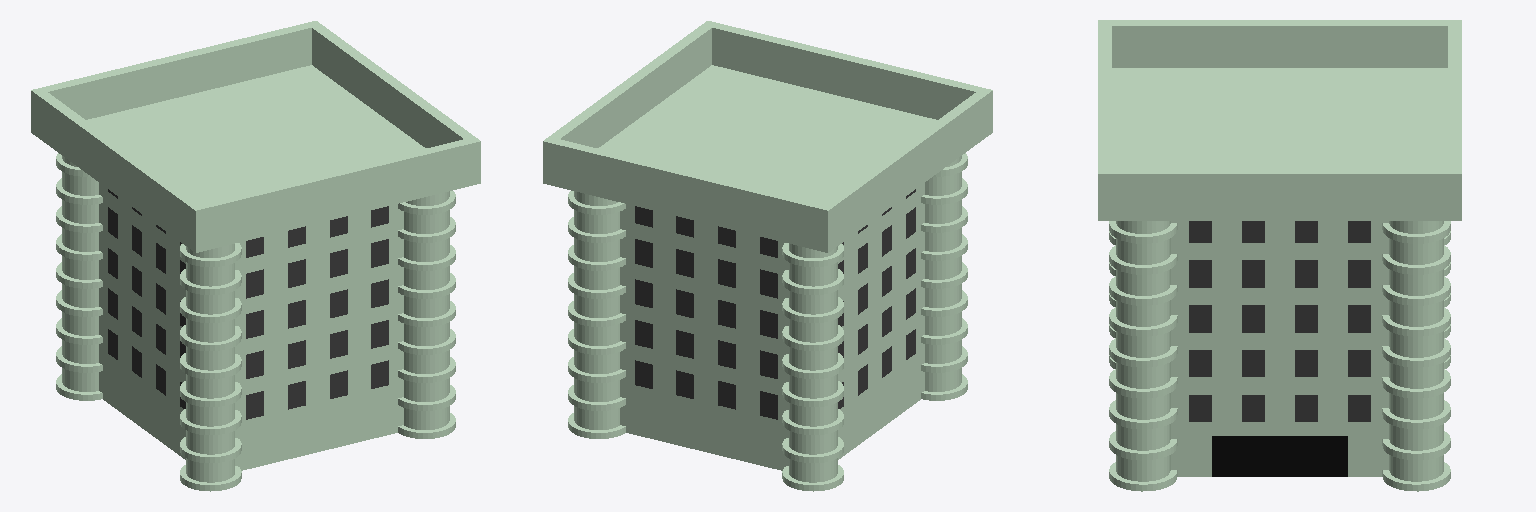
The robot description file, URDF, robot "building_3":
<?xml version="1.0"?> 

<!-- Copyright 2023 [author] -->

<!-- Licensed under the Apache License, Version 2.0 (the "License"); -->
<!-- you may not use this file except in compliance with the License. -->
<!-- You may obtain a copy of the License at -->

<!--     http://www.apache.org/licenses/LICENSE-2.0 -->

<!-- Unless required by applicable law or agreed to in writing, software -->
<!-- distributed under the License is distributed on an "AS IS" BASIS, -->
<!-- WITHOUT WARRANTIES OR CONDITIONS OF ANY KIND, either express or implied. -->
<!-- See the License for the specific language governing permissions and -->
<!-- limitations under the License. -->

<!-- Authors: [author], [author] -->

<robot name="building_3">
    <link name="building_3">
        <visual>
            <origin xyz="0 0 0" rpy="0 0 0" />
            <geometry>
                <mesh filename='meshes/building_3.stl' scale='0.15 0.15 0.1'/>
            </geometry>
            <material name="greyblue">
                <color rgba="0.8 0.9 0.8 1"/>
            </material>
        </visual>
        <collision>
            <origin xyz="0 0 0" rpy="0 0 0" />
            <geometry>
                <mesh filename='meshes/building_3.stl' scale='0.15 0.15 0.1'/>
            </geometry>
        </collision>
        <inertial>
            <mass value="10"/>
            <inertia ixx="0.4" ixy="0.0" ixz="0.0" iyy="0.4" iyz="0.0" izz="0.2" />
        </inertial>
    </link>
    <link name="windows">
        <visual>
            <origin xyz="0 0 0" rpy="0 0 0" />
            <geometry>
                <mesh filename='meshes/building_3windows.stl' scale='0.15 0.15 0.1'/>
            </geometry>
            <material name="black">
                <color rgba="0.3 0.3 0.3 1"/>
            </material>
        </visual>
        <collision>
            <origin xyz="0 0 0" rpy="0 0 0" />
            <geometry>
                <mesh filename='meshes/building_3windows.stl' scale='0.15 0.15 0.1'/>
            </geometry>
        </collision>
        <inertial>
            <mass value="10"/>
            <inertia ixx="0.4" ixy="0.0" ixz="0.0" iyy="0.4" iyz="0.0" izz="0.2" />
        </inertial>
    </link>
    <joint name="window" type="fixed">
        <origin rpy="0 0 0" xyz="0 0 0"/>
        <parent link="building_3"/>
        <child link="windows"/>
    </joint>
    <link name="doors">
        <visual>
            <origin xyz="0 0 0" rpy="0 0 0" />
            <geometry>
                <mesh filename='meshes/building_3door.stl' scale='0.15 0.15 0.1'/>
            </geometry>
            <material name="black">
                <color rgba="0.1 0.1 0.1 1"/>
            </material>
        </visual>
        <collision>
            <origin xyz="0 0 0" rpy="0 0 0" />
            <geometry>
                <mesh filename='meshes/building_3door.stl' scale='0.15 0.15 0.1'/>
            </geometry>
        </collision>
        <inertial>
            <mass value="10"/>
            <inertia ixx="0.4" ixy="0.0" ixz="0.0" iyy="0.4" iyz="0.0" izz="0.2" />
        </inertial>
    </link>
    <joint name="door" type="fixed">
        <origin rpy="0 0 1.571" xyz="0 0 0"/>
        <parent link="building_3"/>
        <child link="doors"/>
        <axis xyz="-1 0 0"/>
    </joint>
</robot>

--- Facts derived from the render (not from the file) ---
The picture shows the robot from 3 angles, left to right: view 1: azimuth 30°, elevation 25°; view 2: azimuth 150°, elevation 25°; view 3: azimuth 270°, elevation 25°; orthographic projection.
Model building_3 with 3 links and 2 joints (2 fixed), rooted at building_3, posed all joints at 0.
Visible links, largest first — view 1: building_3, windows; view 2: building_3, windows; view 3: building_3, windows, doors.
Link boxes in pixels (<box>): building_3: <box>31,21,480,491</box>; windows: <box>108,189,388,419</box>; building_3: <box>543,21,992,491</box>; windows: <box>635,189,915,419</box>; building_3: <box>1098,20,1461,491</box>; windows: <box>1189,221,1370,421</box>; doors: <box>1212,436,1347,476</box>.
Bounding box of the posed robot: 12 × 12 × 11.7 m (x, y, z).
3 mesh visuals loaded from 3 distinct referenced files (3 binary STL).
